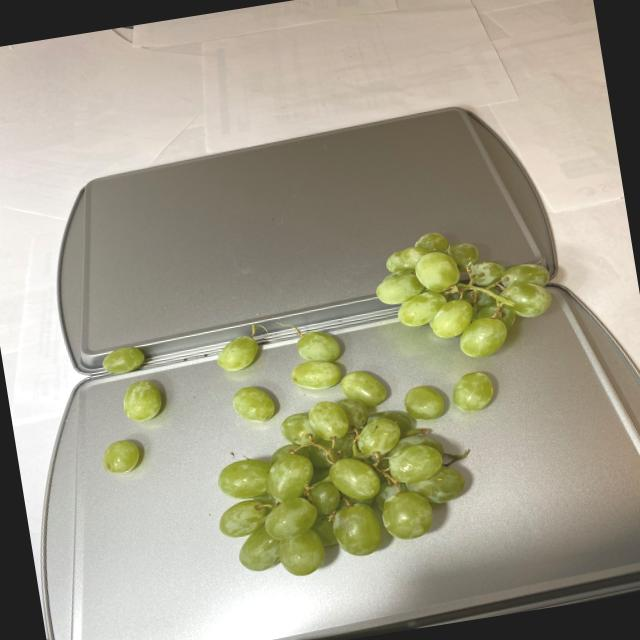grapes: (75, 218, 588, 604)
